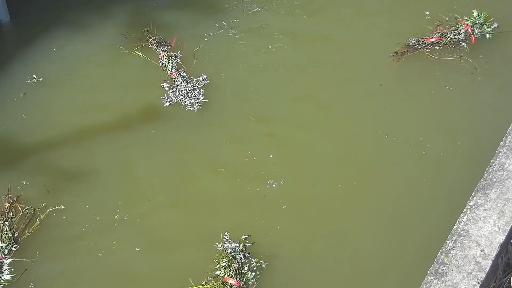twig: (117, 21, 218, 118), (384, 6, 500, 74), (1, 178, 60, 284), (185, 228, 267, 288)
